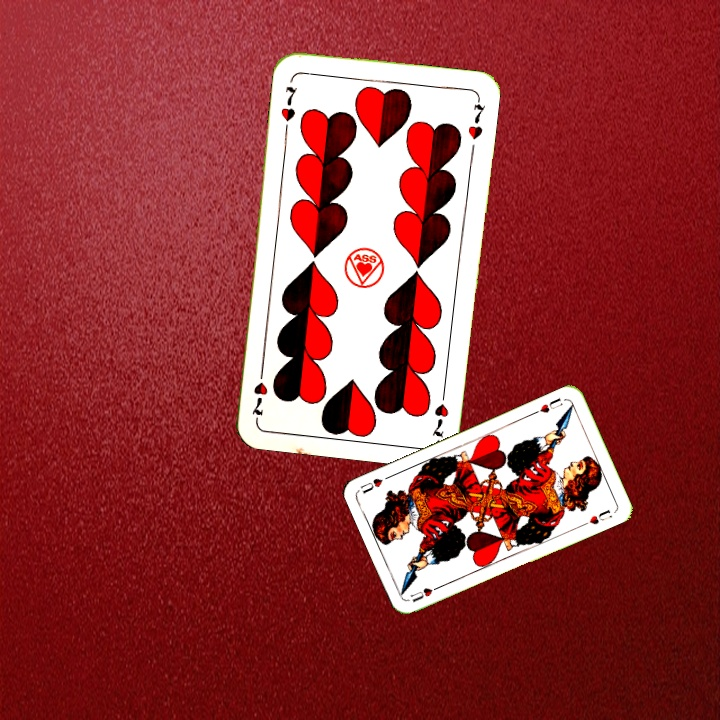H7: (427, 384, 451, 443), (276, 82, 300, 124)
HU: (406, 581, 444, 605), (529, 393, 565, 417)
